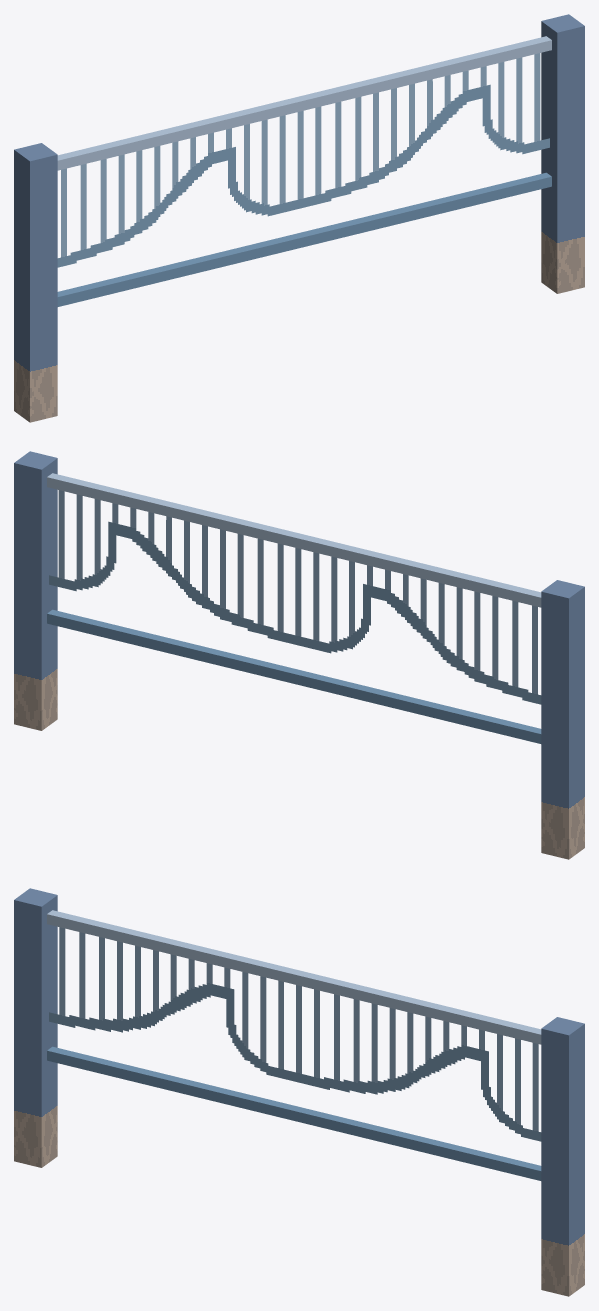
Rendered from 0492_Park_Fence.glb.
3 views of the same model, one above another, from view 1: azimuth 30°, elevation 25°; view 2: azimuth 150°, elevation 25°; view 3: azimuth 330°, elevation 25° (orthographic).
Parts seen in each view (by area): view 1: part_0; view 2: part_0; view 3: part_0.
Part boxes in pixels (x1,y1,x2,y2): part_0: (14, 14, 584, 422); part_0: (14, 451, 584, 859); part_0: (14, 888, 584, 1296).
Bounding box in the file's own units: 2 × 0.9 × 0.1.
Materials: 1 (1 with a texture image).
